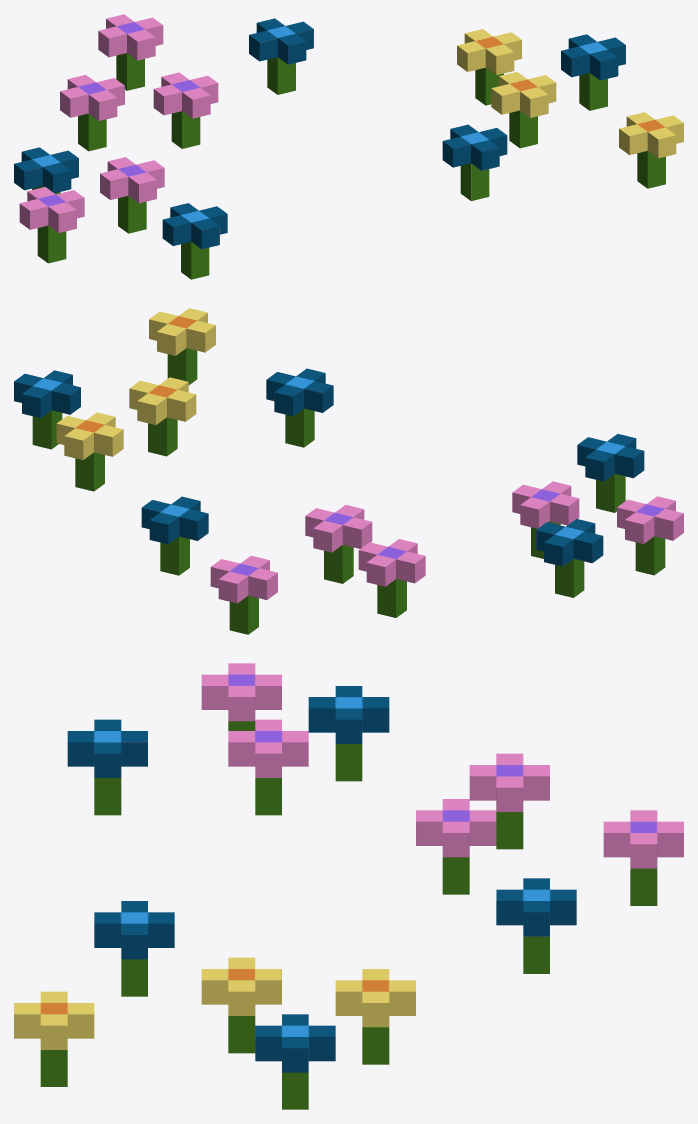
The model's file is flowers_2_overtile.glb.
3 views of the same model, one above another, from view 1: azimuth 30°, elevation 25°; view 2: azimuth 150°, elevation 25°; view 3: azimuth 270°, elevation 25° (orthographic). The views are drawn at different scales.
Parts seen in each view (by area): view 1: flowers_2_overtile; view 2: flowers_2_overtile; view 3: flowers_2_overtile.
Part boxes in pixels (box(x1,y1,x2,y2)): flowers_2_overtile: box(14, 14, 683, 279); flowers_2_overtile: box(14, 308, 683, 634); flowers_2_overtile: box(14, 663, 683, 1109).
Size of the model in its own units: 3.4 by 0.3 by 2.5.
Materials: 1 (1 with a texture image).
